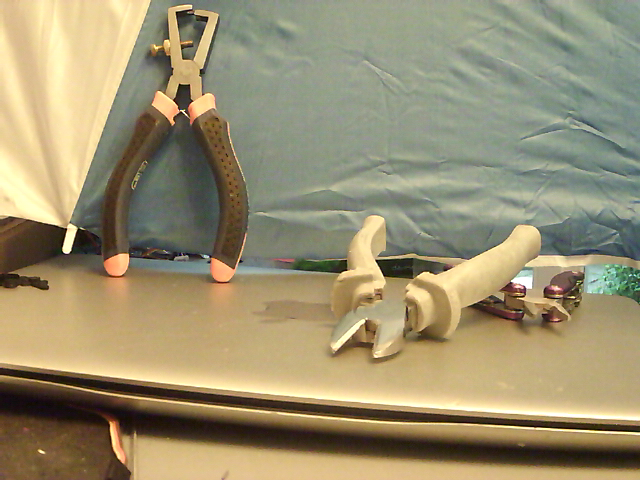pliers: (327, 215, 542, 366), (470, 264, 586, 326)
